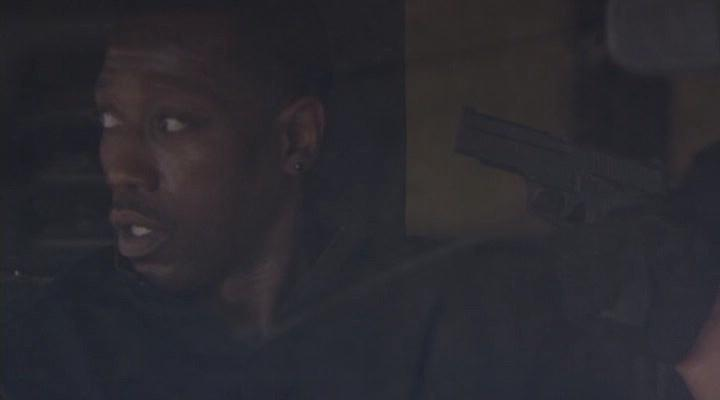gun: (449, 99, 683, 346)
